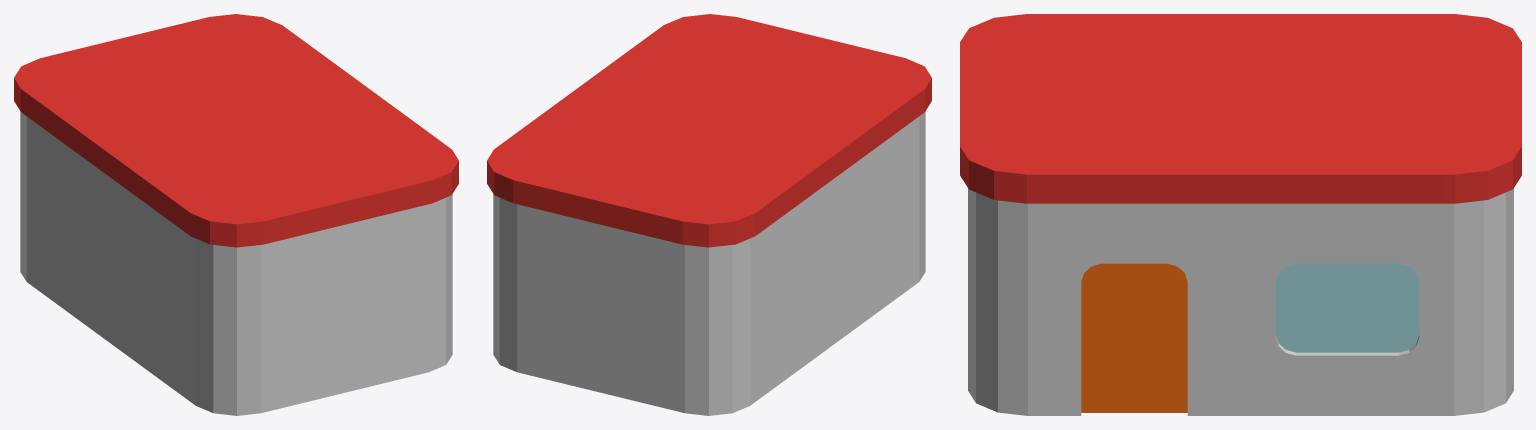
The model's file is Building 6.fbx.
3 views of the same model, side by side, from view 1: azimuth 30°, elevation 25°; view 2: azimuth 150°, elevation 25°; view 3: azimuth 270°, elevation 25° (orthographic). The views are drawn at different scales.
Visible parts, largest first — view 1: Building 48; view 2: Building 48; view 3: Building 48.
Boxes of the visible parts, box(x1,y1,x2,y2) form: Building 48: box(14, 14, 458, 415); Building 48: box(487, 14, 931, 415); Building 48: box(960, 14, 1521, 415).
Size of the model in its own units: 561 by 399 by 829.
